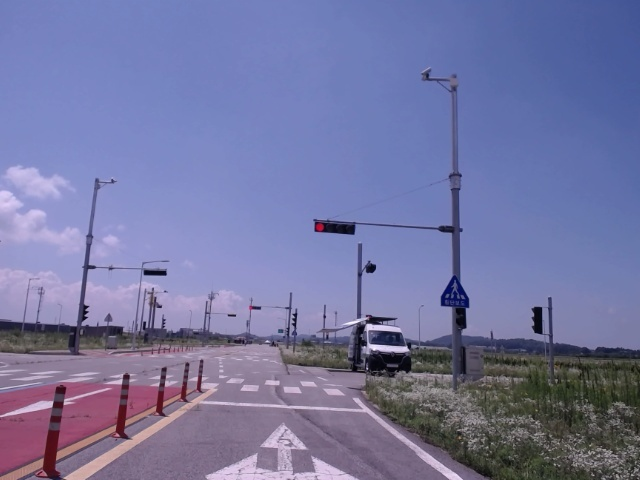red_4: (314, 222, 355, 235)
